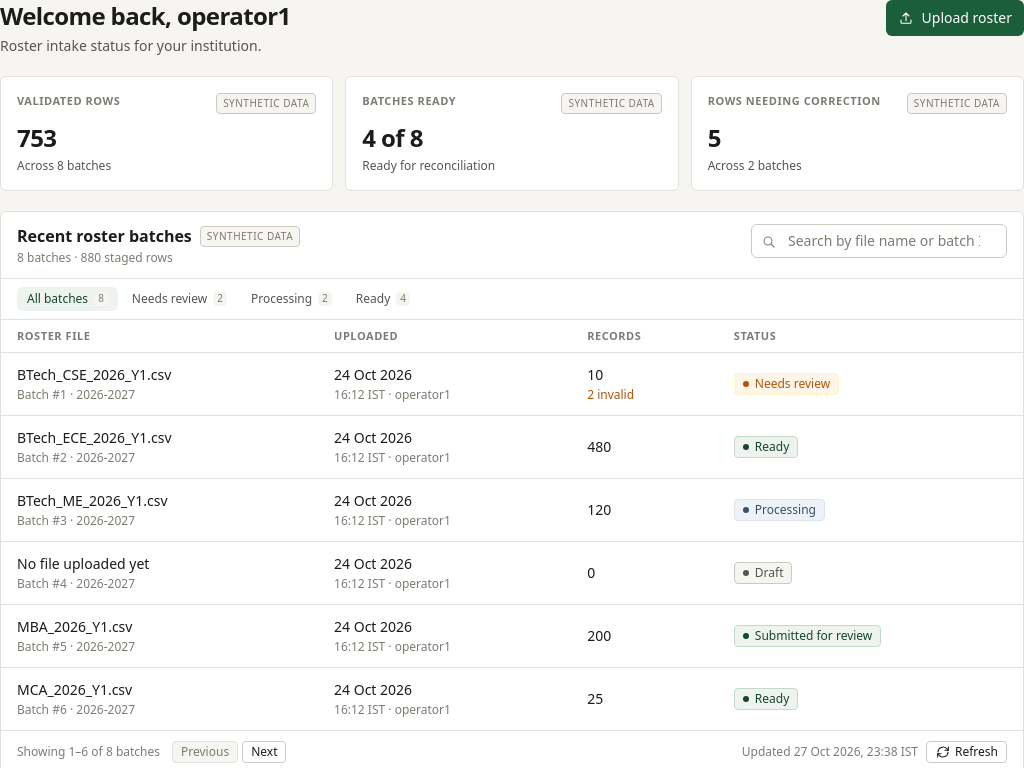
Test: DashboardPage › filters by status and by search text
expect the heading "Welcome back, operator1" is shown: met, box x1=0 y1=0 x2=291 y2=32
expect the text "BTech_CSE_2026_Y1.csv" is shown: met, box x1=17 y1=365 x2=171 y2=384
Click the button "Needs review 2" at (179, 299), box x1=122 y1=287 x2=237 y2=311
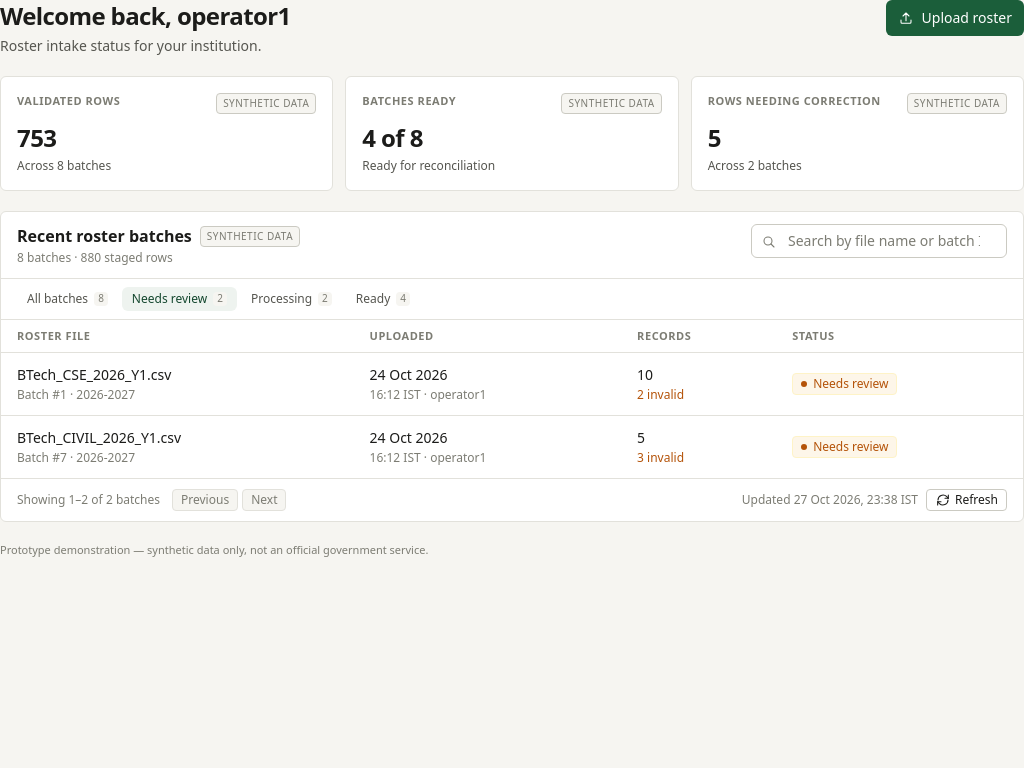
expect the text "Showing 1–2 of 2 batches" is shown: met, box x1=17 y1=492 x2=160 y2=508
expect the text "BTech_ECE_2026_Y1.csv" is gone: met
Click the button "All batches 8" at (67, 299), box x1=17 y1=287 x2=118 y2=311
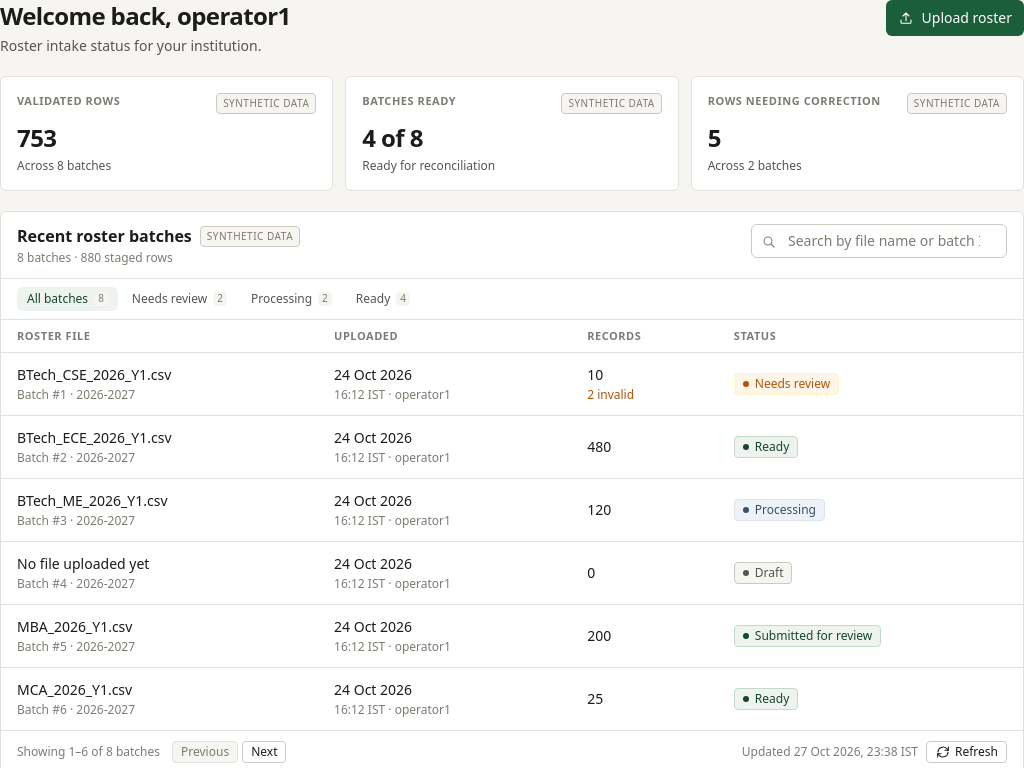
Type "ECE" into the search field labelled "Search by file name or batch ID" at (879, 241), box x1=751 y1=224 x2=1007 y2=258
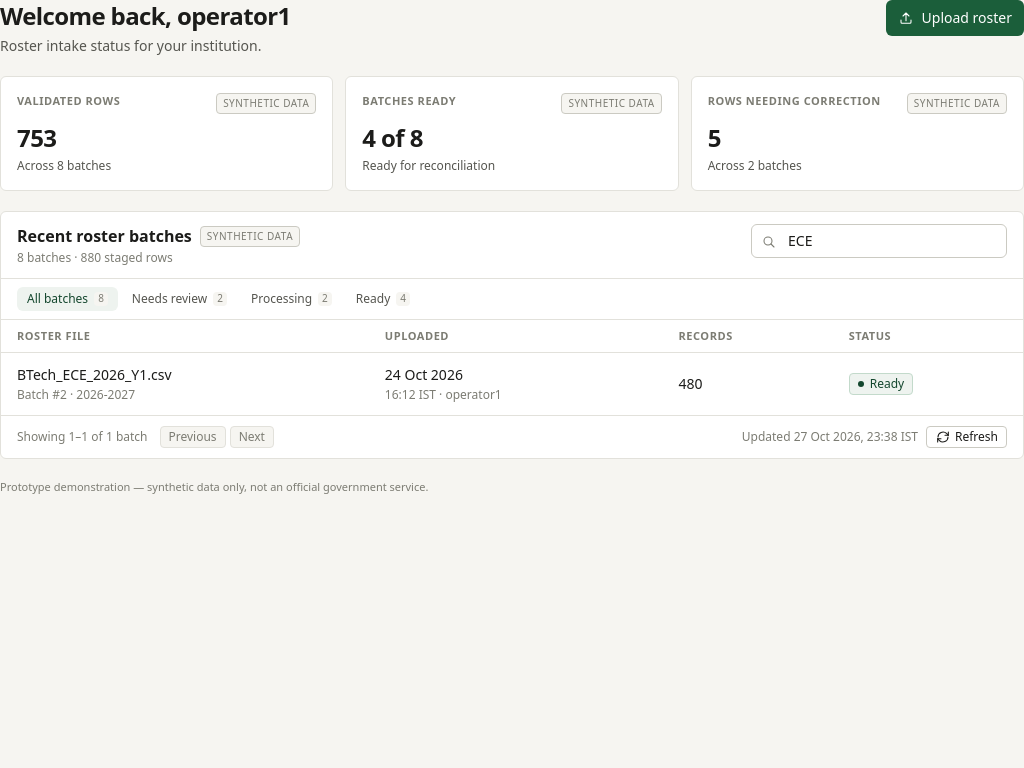
expect the text "BTech_ECE_2026_Y1.csv" is shown: met, box x1=17 y1=365 x2=172 y2=384
expect the text "BTech_CSE_2026_Y1.csv" is gone: met
